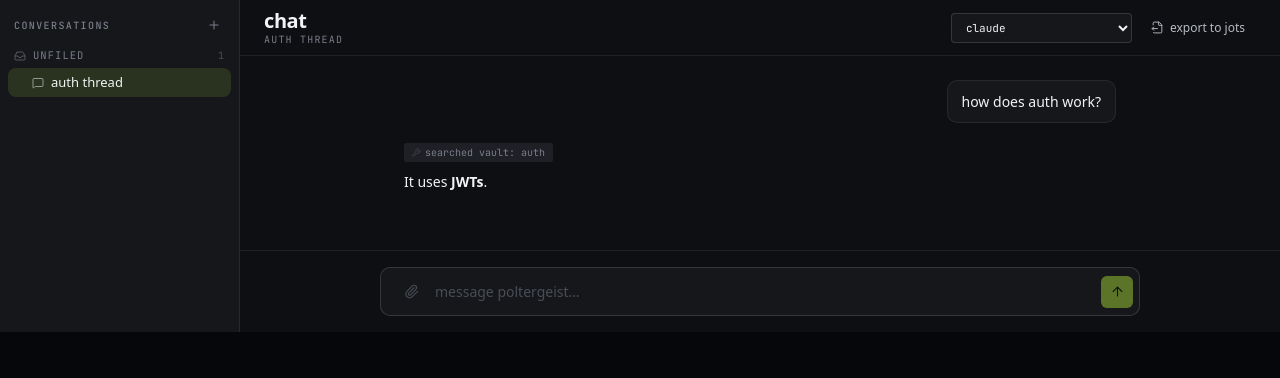
Scenario: ChatScreen auto-file polling › after the first reply of a pending chat, polls until filed and records the location
Check: the text "how does auth work?" is shown, box [946,80,1116,123]
Type "hello ghost" into the text box with placeholder "message poltergeist…" at (764, 291), box [435,274,1093,309]
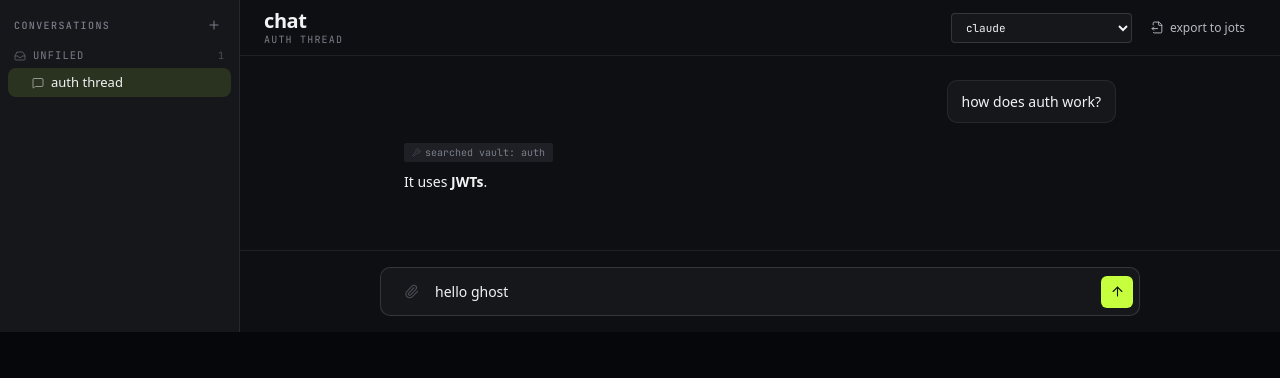
Press Enter in the text box with placeholder "message poltergeist…", box [435,274,1093,309]
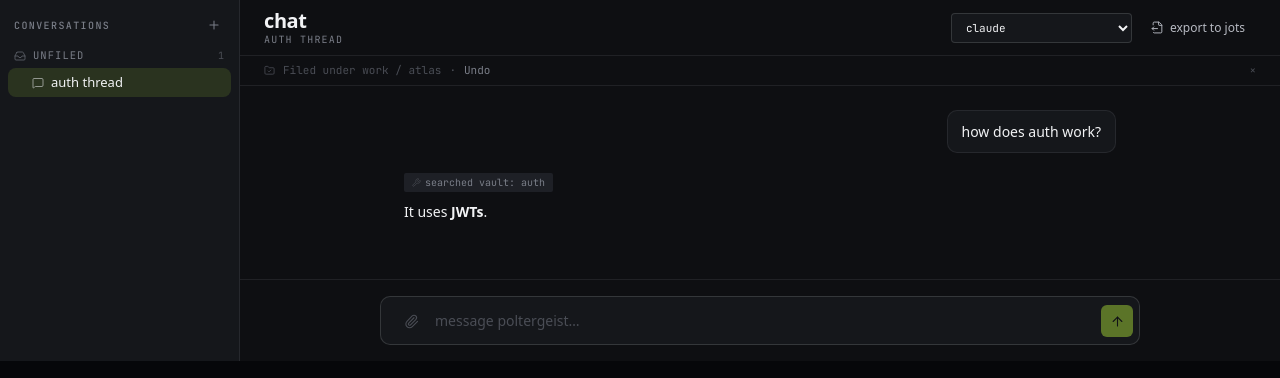
Check: the text "Filed under work / atlas" is shown, box [283,62,441,78]
